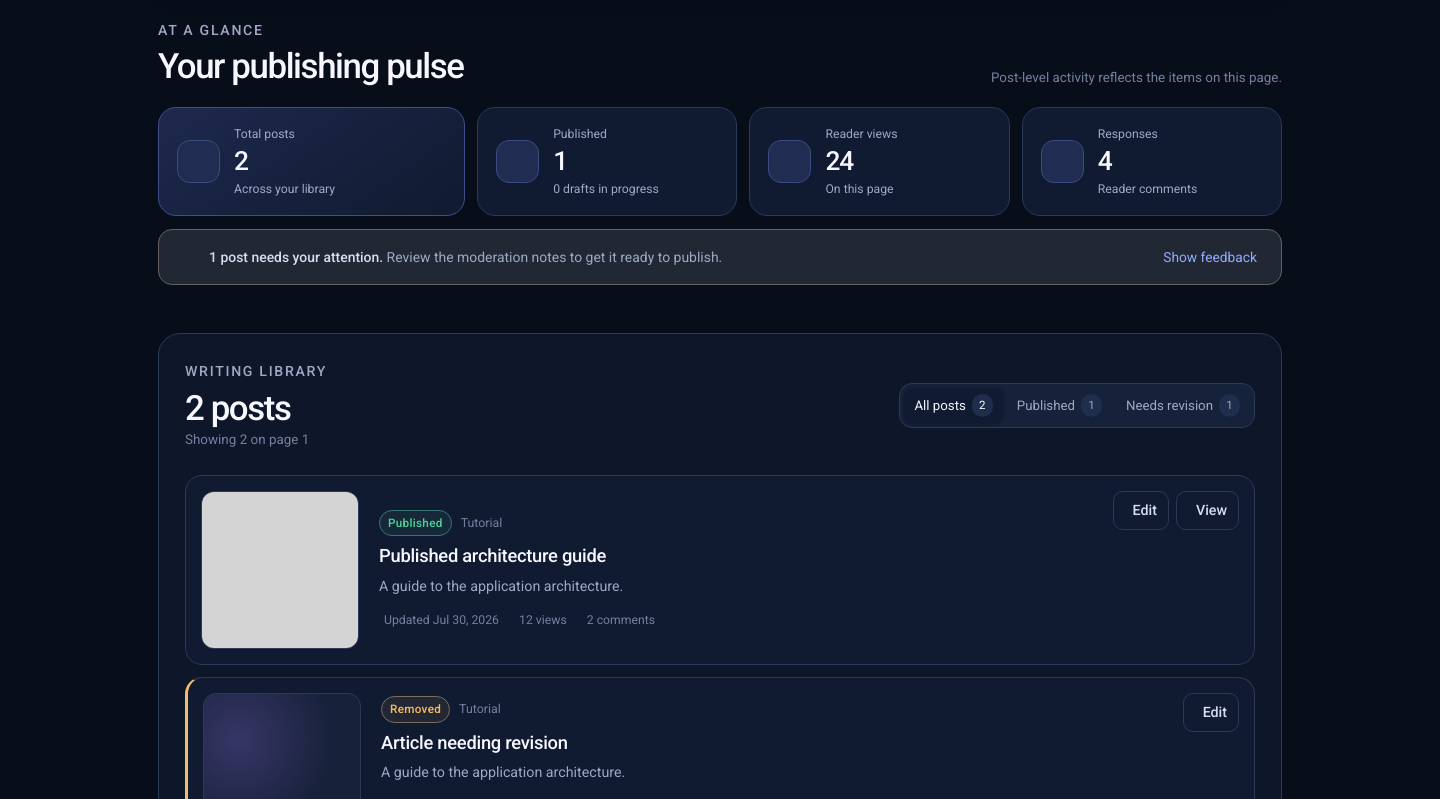
it: DashboardPage › filters the current post page by publishing status
(page scrolled)
Expected: the heading "Published architecture guide" is shown, [379,546,606,566]
Click the button "Needs revision 1" at [1183, 406], box [1116,388,1250,423]
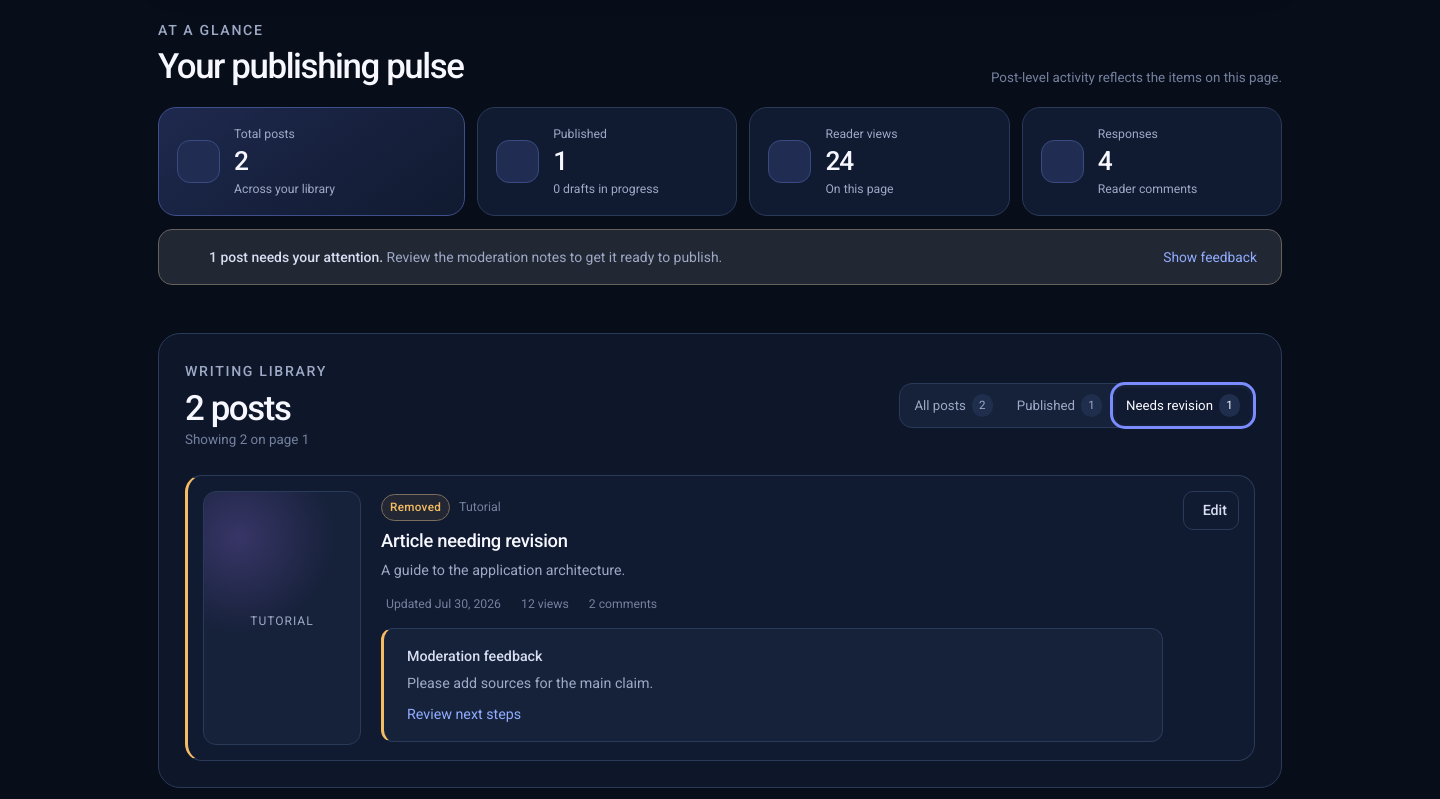
Expected: the heading "Article needing revision" is shown, [381,530,568,551]
Expected: the heading "Published architecture guide" is gone
